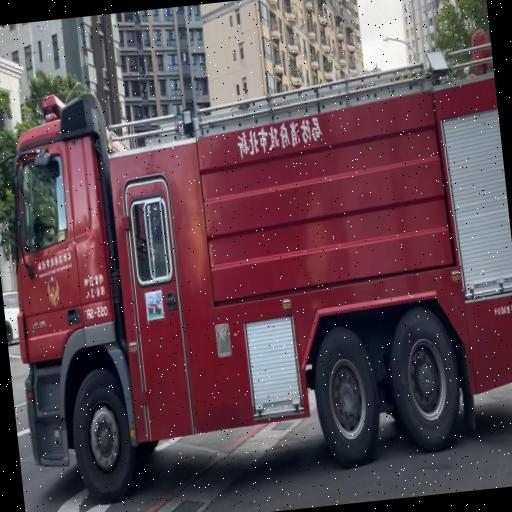fire truck: (15, 52, 512, 502)
